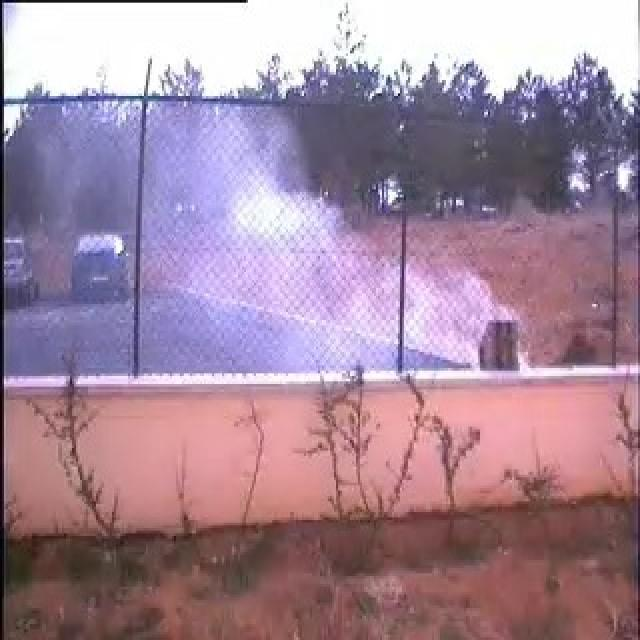Smoke: (224, 156, 533, 368)
